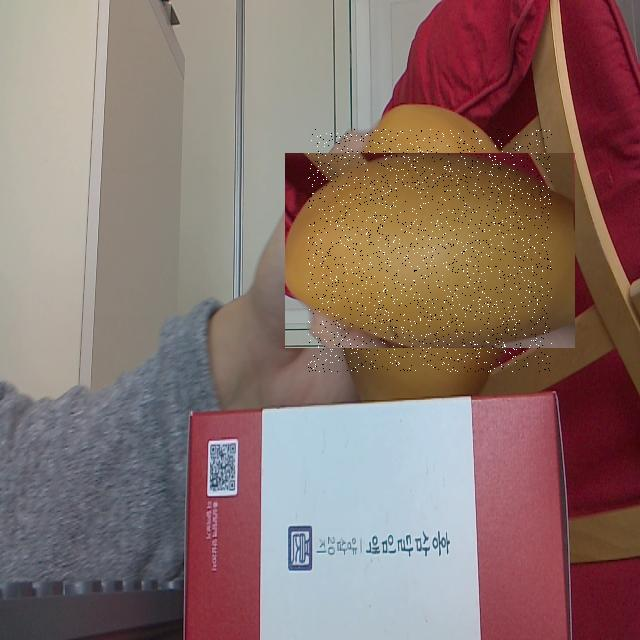pear: (308, 129, 552, 372)
